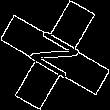N_SE: (23, 25, 87, 85)
